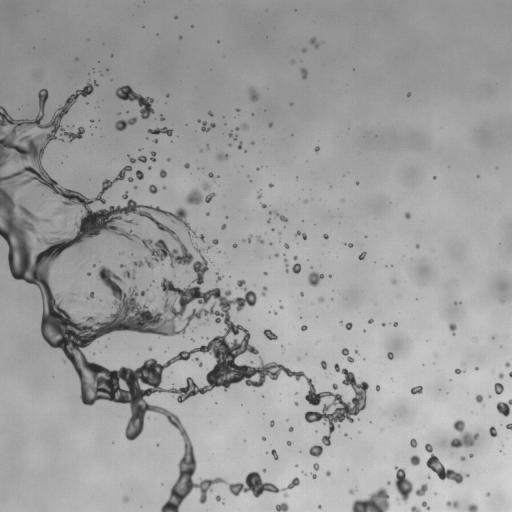droplet: (394, 466, 427, 502), (351, 487, 389, 511), (450, 419, 479, 446), (186, 182, 215, 204), (496, 399, 511, 416), (307, 271, 323, 286), (309, 445, 322, 457), (201, 121, 215, 132), (263, 329, 277, 340), (85, 292, 95, 306), (249, 87, 258, 101), (410, 454, 420, 465), (494, 382, 503, 394), (276, 502, 288, 511), (309, 37, 319, 47), (216, 152, 228, 160), (448, 323, 456, 334), (411, 386, 422, 394), (446, 501, 458, 508), (149, 184, 158, 193), (292, 263, 300, 273), (489, 426, 497, 436), (300, 68, 307, 79), (135, 170, 143, 179), (475, 394, 483, 403), (271, 449, 278, 459), (467, 504, 477, 511), (358, 251, 366, 259), (320, 360, 327, 369), (410, 438, 417, 447), (256, 235, 263, 243), (422, 501, 429, 509), (160, 169, 166, 178), (150, 151, 155, 161), (345, 322, 352, 329), (349, 488, 357, 494), (216, 274, 222, 281), (387, 352, 393, 359), (313, 463, 319, 470), (208, 172, 214, 178), (301, 325, 307, 331), (237, 142, 242, 149), (332, 383, 337, 390), (506, 423, 511, 430), (314, 146, 319, 152), (405, 212, 410, 218), (212, 239, 218, 244), (183, 269, 189, 274), (318, 296, 323, 302), (346, 243, 353, 247), (184, 163, 189, 168), (221, 224, 226, 229), (323, 234, 328, 239), (284, 243, 289, 248), (368, 318, 373, 323), (505, 362, 510, 367), (498, 373, 503, 378), (311, 473, 316, 478), (123, 496, 128, 501), (127, 177, 133, 181), (260, 203, 266, 207), (270, 420, 274, 426), (216, 495, 220, 501), (258, 191, 261, 198), (208, 111, 212, 116), (160, 115, 164, 120), (129, 252, 133, 257), (392, 322, 397, 326), (375, 385, 379, 390), (460, 456, 465, 460), (326, 471, 330, 476), (302, 48, 306, 52), (153, 139, 157, 143), (293, 256, 297, 260), (69, 298, 73, 302), (354, 350, 358, 354), (294, 401, 298, 405), (289, 427, 293, 431), (287, 441, 291, 445), (469, 453, 473, 457), (386, 481, 390, 485), (268, 123, 272, 126), (269, 183, 272, 187), (233, 243, 236, 247), (275, 253, 278, 257), (392, 280, 396, 283), (279, 305, 283, 308), (262, 436, 265, 440), (263, 468, 266, 472), (486, 492, 489, 496), (407, 93, 410, 96), (206, 145, 209, 148), (167, 158, 170, 161), (267, 219, 270, 222), (416, 244, 419, 247), (120, 251, 123, 254), (87, 272, 90, 275), (264, 272, 267, 275), (300, 292, 303, 295), (273, 311, 276, 314), (382, 323, 385, 326), (191, 338, 194, 341), (427, 475, 430, 478), (318, 505, 321, 508), (179, 36, 182, 38), (291, 61, 294, 63), (166, 94, 169, 96), (236, 109, 239, 111), (91, 119, 93, 122), (148, 167, 151, 169), (476, 175, 479, 177), (134, 186, 136, 189), (163, 186, 165, 189), (304, 200, 307, 202), (206, 212, 208, 215), (492, 336, 494, 339), (475, 367, 478, 369), (286, 418, 288, 421), (295, 464, 297, 467), (251, 142, 253, 144), (356, 182, 358, 184), (61, 232, 63, 234), (178, 281, 180, 283), (99, 298, 101, 300), (454, 301, 456, 303), (303, 472, 305, 474)
ligament: (0, 81, 368, 511), (425, 443, 469, 483), (115, 85, 154, 119), (115, 117, 137, 131), (148, 127, 172, 136), (269, 210, 287, 222), (341, 348, 354, 362), (127, 155, 146, 163), (295, 231, 306, 239), (194, 357, 202, 367), (235, 124, 248, 130), (228, 132, 237, 140), (243, 235, 252, 242), (454, 368, 465, 373), (284, 259, 288, 272), (411, 506, 421, 511), (262, 286, 267, 295), (509, 371, 511, 377)
